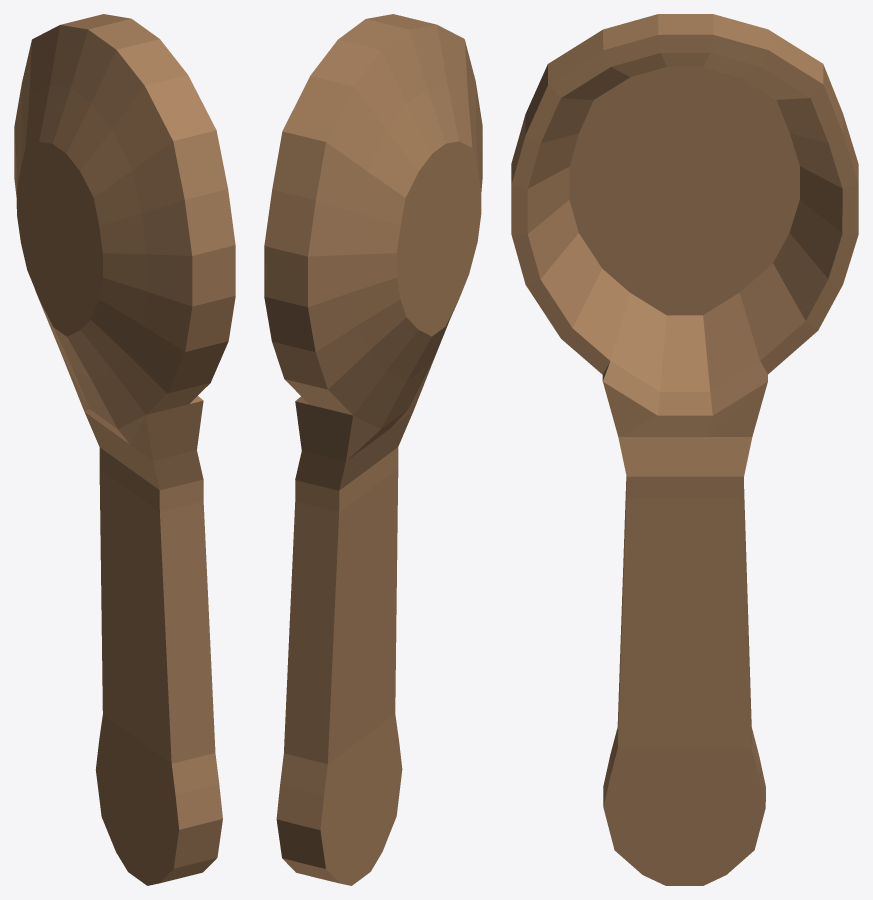
Rendered from sage_weapon2.fbx.
The picture shows the model from 3 angles, left to right: view 1: azimuth 30°, elevation 25°; view 2: azimuth 150°, elevation 25°; view 3: azimuth 270°, elevation 25°; orthographic projection.
Parts seen in each view (by area): view 1: pCube1; view 2: pCube1; view 3: pCube1.
Boxes of the visible parts, box(x1,y1,x2,y2) form: pCube1: box(14, 14, 235, 885); pCube1: box(264, 14, 482, 885); pCube1: box(511, 14, 858, 885).
Bounding box in the file's own units: 2.72 × 17.97 × 6.78.
